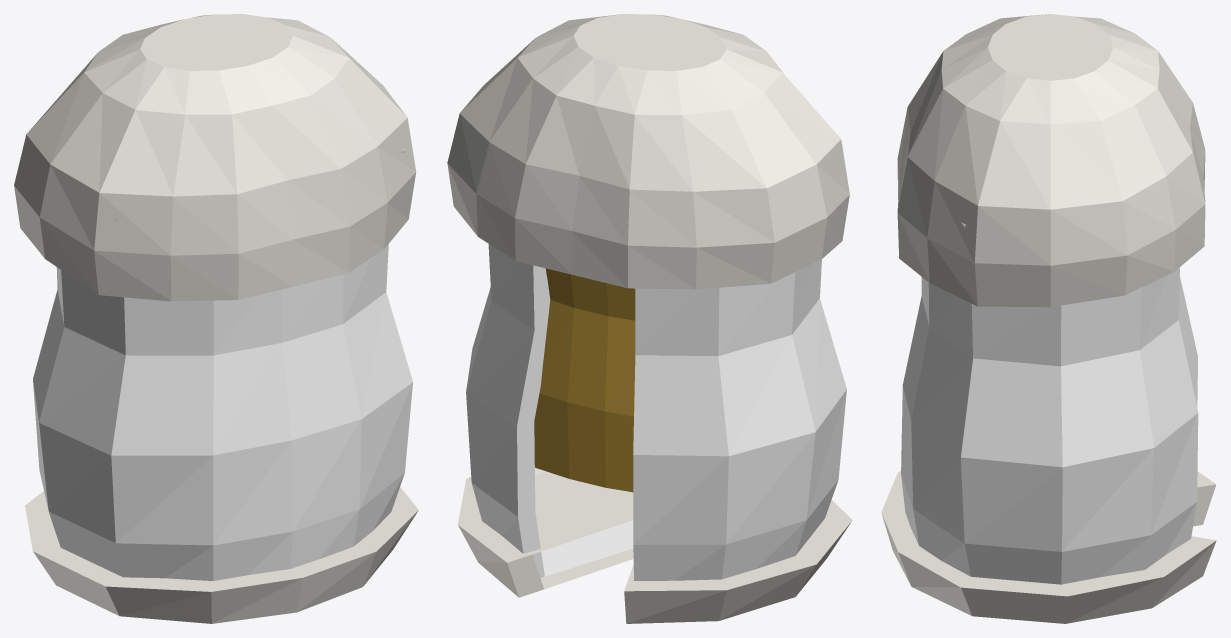
The model's file is vfem2_female_kings_robes.obj.
3 renders of one model, left to right at view 1: azimuth 30°, elevation 25°; view 2: azimuth 150°, elevation 25°; view 3: azimuth 270°, elevation 25°, orthographic.
Visible parts, largest first — view 1: vfem2_female_kings_robes; view 2: vfem2_female_kings_robes; view 3: vfem2_female_kings_robes.
Boxes of the visible parts, <box> form: vfem2_female_kings_robes: <box>14,14,418,623</box>; vfem2_female_kings_robes: <box>447,14,852,623</box>; vfem2_female_kings_robes: <box>881,14,1216,623</box>.
Bounding box in the file's own units: 0.5704 × 0.79 × 0.4773.
